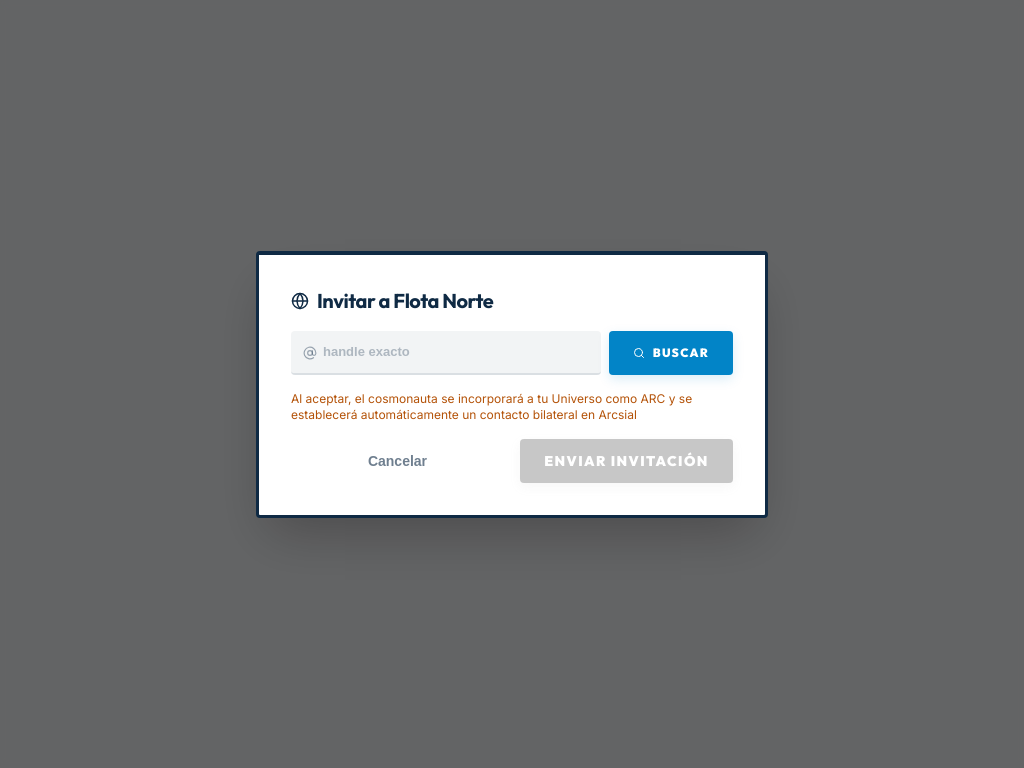
Test: InviteToUniverseModal › sin contactos no hay selector; por @handle y error de puerta del servidor
Type "ana" into the field with placeholder "handle exacto".
click(446, 352); type("ana")  # box [291,330,601,374]
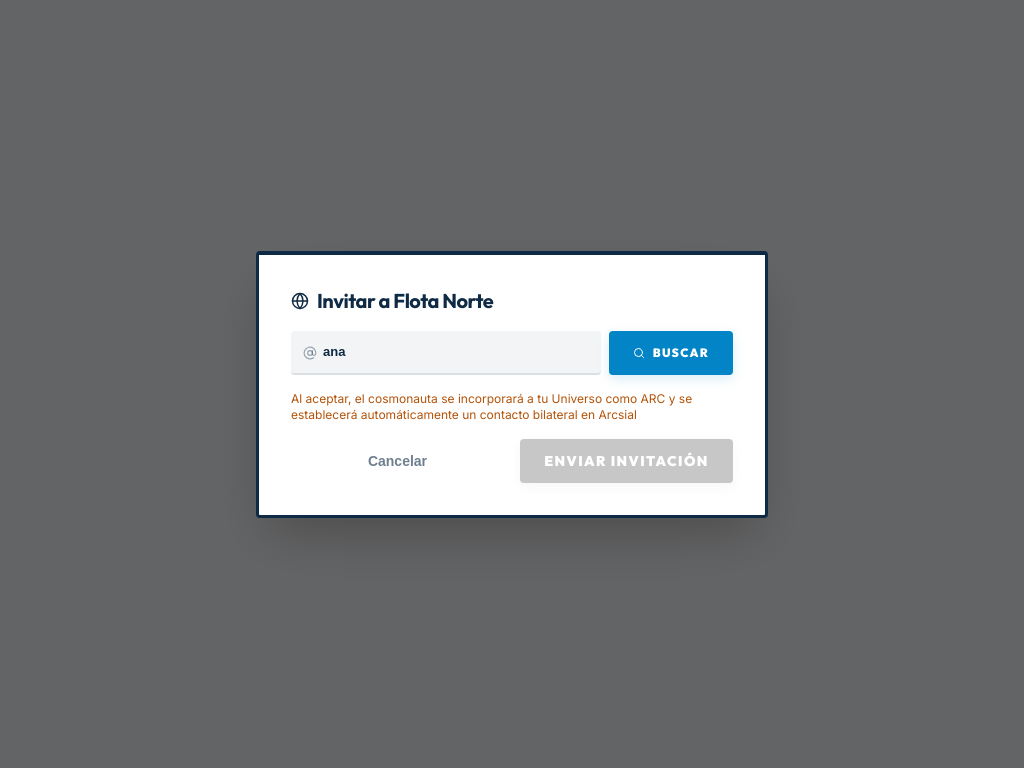
Click the button "Buscar".
click(671, 352)  # box [609,330,733,374]
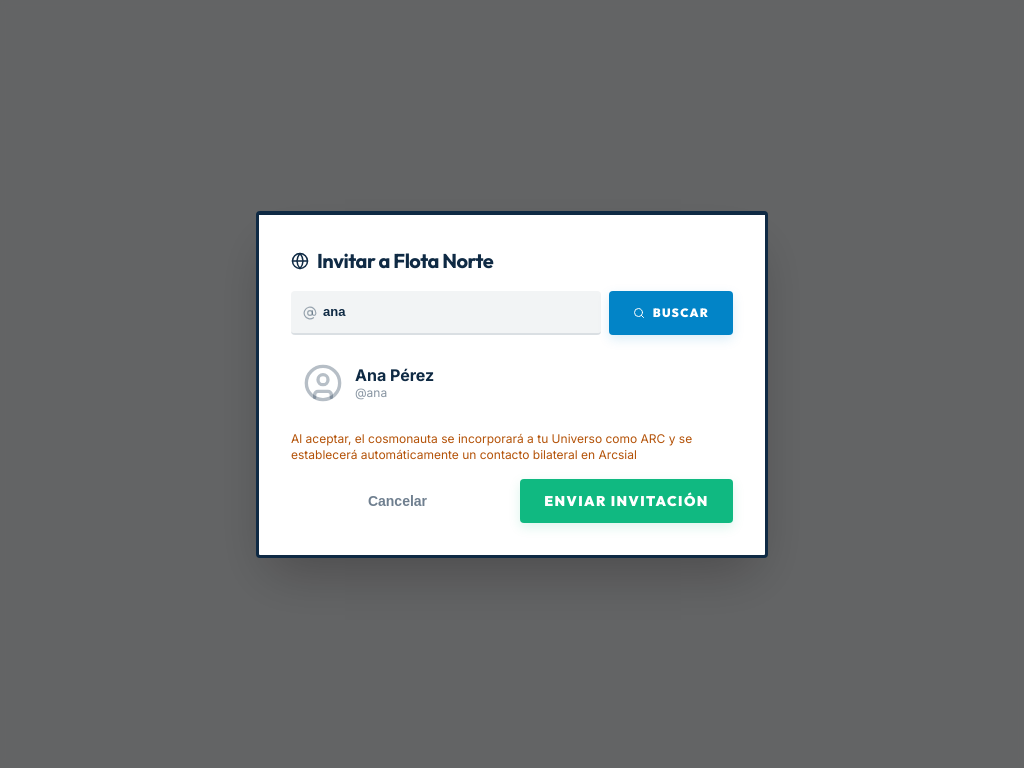
Result: the element with test id "arcsial-profile-preview" is shown at [303,362,434,402]
Click the button with test id "invite-universe-send".
click(626, 500)  # box [520,478,733,522]
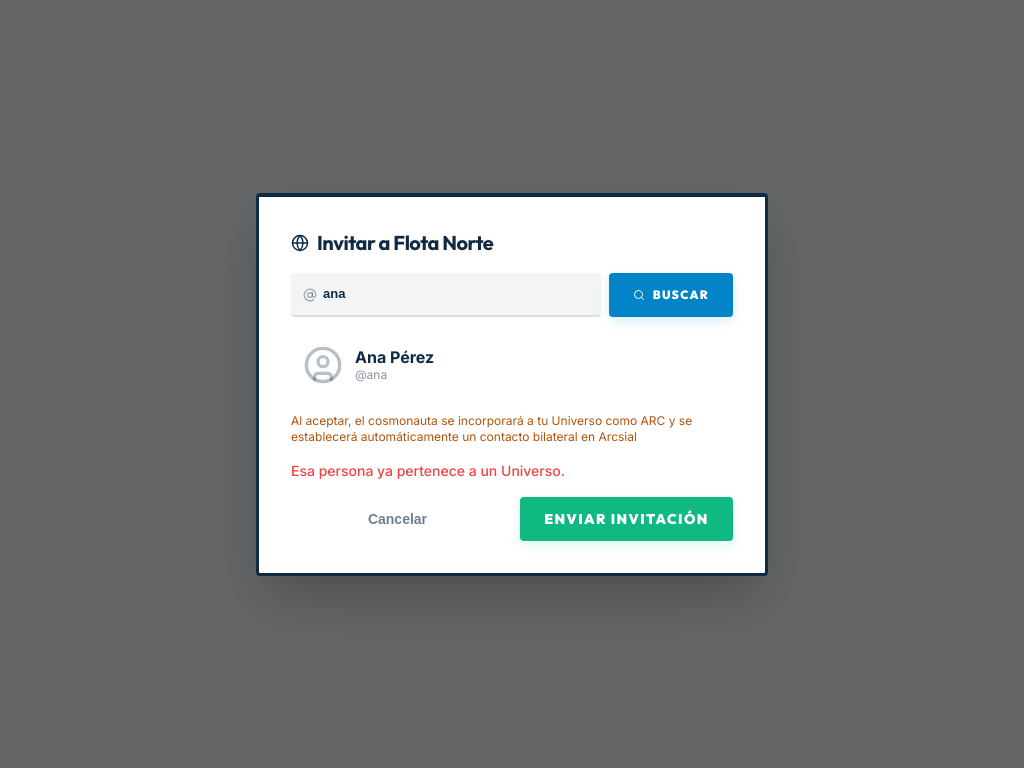
Result: the message with test id "invite-universe-error" shows "ya pertenece a un Universo" at [291,462,565,478]
